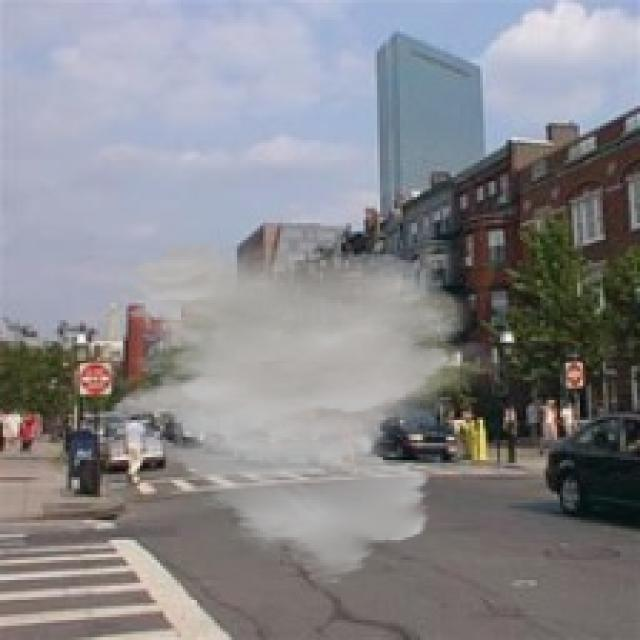Smoke: (109, 240, 518, 586)
